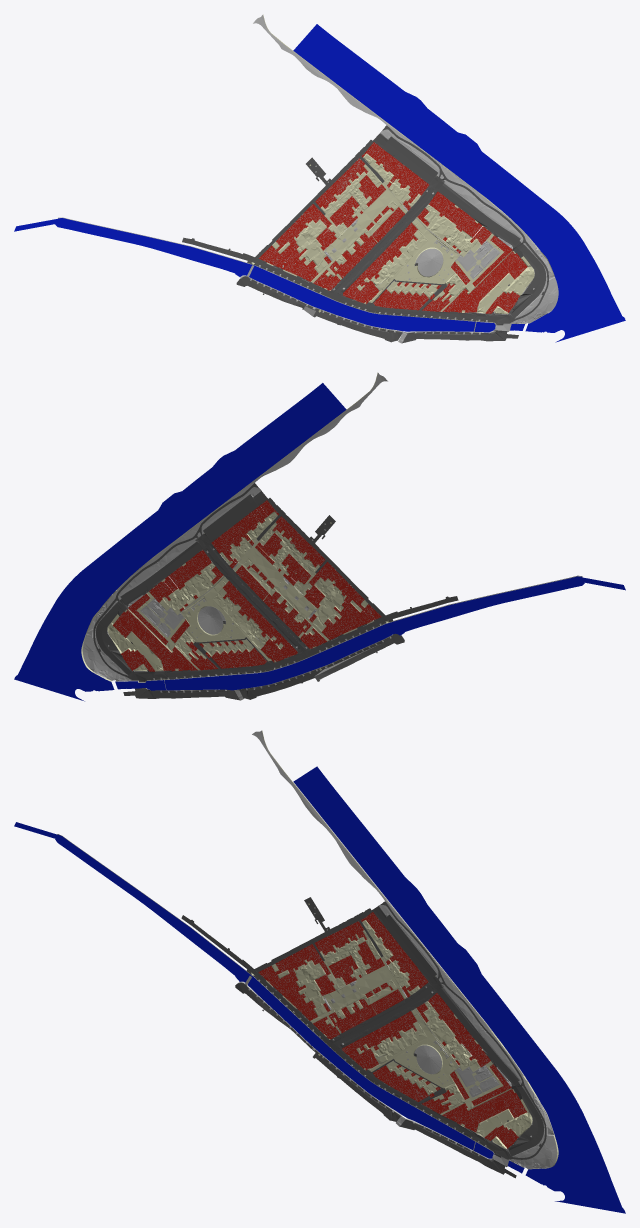
3 renders of one model, top to bottom at view 1: azimuth 30°, elevation 25°; view 2: azimuth 150°, elevation 25°; view 3: azimuth 330°, elevation 25°, orthographic.
Visible parts, largest first — view 1: b69a8d7bc-2d38-11e6-9a38-393caa90be70, bedab6302-00c8-11e6-b420-2bdcc4ab5d7f, b1105d28c-00ba-11e6-b420-2bdcc4ab5d7f, b2c160b4d-2d29-11e6-9a38-393caa90be70, b492abedc-00b4-11e6-b420-2bdcc4ab5d7f, b221e7287-00b5-11e6-b420-2bdcc4ab5d7f, b983a1b0d-00c9-11e6-b420-2bdcc4ab5d7f, b4138231e-00b4-11e6-b420-2bdcc4ab5d7f, b2223065e-00b5-11e6-b420-2bdcc4ab5d7f, b4931c302-00b4-11e6-b420-2bdcc4ab5d7f, b22250278-00b5-11e6-b420-2bdcc4ab5d7f, b984231ca-00c9-11e6-b420-2bdcc4ab5d7f (+13 smaller); view 2: b69a8d7bc-2d38-11e6-9a38-393caa90be70, bedab6302-00c8-11e6-b420-2bdcc4ab5d7f, b1105d28c-00ba-11e6-b420-2bdcc4ab5d7f, b2c160b4d-2d29-11e6-9a38-393caa90be70, b492abedc-00b4-11e6-b420-2bdcc4ab5d7f, b221e7287-00b5-11e6-b420-2bdcc4ab5d7f, b983a1b0d-00c9-11e6-b420-2bdcc4ab5d7f, b4138231e-00b4-11e6-b420-2bdcc4ab5d7f, b2223065e-00b5-11e6-b420-2bdcc4ab5d7f, b4931c302-00b4-11e6-b420-2bdcc4ab5d7f, b22250278-00b5-11e6-b420-2bdcc4ab5d7f, b984231ca-00c9-11e6-b420-2bdcc4ab5d7f (+14 smaller); view 3: b69a8d7bc-2d38-11e6-9a38-393caa90be70, bedab6302-00c8-11e6-b420-2bdcc4ab5d7f, b2c160b4d-2d29-11e6-9a38-393caa90be70, b1105d28c-00ba-11e6-b420-2bdcc4ab5d7f, b492abedc-00b4-11e6-b420-2bdcc4ab5d7f, b221e7287-00b5-11e6-b420-2bdcc4ab5d7f, b983a1b0d-00c9-11e6-b420-2bdcc4ab5d7f, b4138231e-00b4-11e6-b420-2bdcc4ab5d7f, b2223065e-00b5-11e6-b420-2bdcc4ab5d7f, b4931c302-00b4-11e6-b420-2bdcc4ab5d7f, b22250278-00b5-11e6-b420-2bdcc4ab5d7f, b984231ca-00c9-11e6-b420-2bdcc4ab5d7f (+3 smaller).
Part boxes in pixels (left/top/right/bottom): b69a8d7bc-2d38-11e6-9a38-393caa90be70: left=293, top=24, right=625, bottom=342; bedab6302-00c8-11e6-b420-2bdcc4ab5d7f: left=14, top=218, right=475, bottom=331; b1105d28c-00ba-11e6-b420-2bdcc4ab5d7f: left=442, top=250, right=527, bottom=312; b2c160b4d-2d29-11e6-9a38-393caa90be70: left=253, top=15, right=534, bottom=248; b492abedc-00b4-11e6-b420-2bdcc4ab5d7f: left=368, top=222, right=458, bottom=302; b221e7287-00b5-11e6-b420-2bdcc4ab5d7f: left=416, top=204, right=481, bottom=257; b983a1b0d-00c9-11e6-b420-2bdcc4ab5d7f: left=255, top=140, right=384, bottom=258; b4138231e-00b4-11e6-b420-2bdcc4ab5d7f: left=311, top=182, right=407, bottom=282; b2223065e-00b5-11e6-b420-2bdcc4ab5d7f: left=294, top=219, right=328, bottom=273; b4931c302-00b4-11e6-b420-2bdcc4ab5d7f: left=364, top=230, right=428, bottom=290; b22250278-00b5-11e6-b420-2bdcc4ab5d7f: left=320, top=170, right=384, bottom=217; b984231ca-00c9-11e6-b420-2bdcc4ab5d7f: left=182, top=237, right=335, bottom=298; b69a8d7bc-2d38-11e6-9a38-393caa90be70: left=14, top=383, right=346, bottom=701; bedab6302-00c8-11e6-b420-2bdcc4ab5d7f: left=164, top=576, right=625, bottom=690; b1105d28c-00ba-11e6-b420-2bdcc4ab5d7f: left=113, top=609, right=197, bottom=671; b2c160b4d-2d29-11e6-9a38-393caa90be70: left=106, top=373, right=387, bottom=606; b492abedc-00b4-11e6-b420-2bdcc4ab5d7f: left=182, top=580, right=271, bottom=661; b221e7287-00b5-11e6-b420-2bdcc4ab5d7f: left=159, top=563, right=223, bottom=614; b983a1b0d-00c9-11e6-b420-2bdcc4ab5d7f: left=256, top=498, right=385, bottom=616; b4138231e-00b4-11e6-b420-2bdcc4ab5d7f: left=233, top=540, right=329, bottom=641; b2223065e-00b5-11e6-b420-2bdcc4ab5d7f: left=312, top=577, right=346, bottom=631; b4931c302-00b4-11e6-b420-2bdcc4ab5d7f: left=212, top=588, right=276, bottom=648; b22250278-00b5-11e6-b420-2bdcc4ab5d7f: left=255, top=528, right=319, bottom=575; b984231ca-00c9-11e6-b420-2bdcc4ab5d7f: left=304, top=596, right=458, bottom=657; b69a8d7bc-2d38-11e6-9a38-393caa90be70: left=293, top=766, right=625, bottom=1213; bedab6302-00c8-11e6-b420-2bdcc4ab5d7f: left=14, top=822, right=474, bottom=1149; b2c160b4d-2d29-11e6-9a38-393caa90be70: left=252, top=730, right=533, bottom=1096; b1105d28c-00ba-11e6-b420-2bdcc4ab5d7f: left=442, top=1089, right=526, bottom=1132; b492abedc-00b4-11e6-b420-2bdcc4ab5d7f: left=368, top=1014, right=457, bottom=1088; b221e7287-00b5-11e6-b420-2bdcc4ab5d7f: left=415, top=1001, right=480, bottom=1072; b983a1b0d-00c9-11e6-b420-2bdcc4ab5d7f: left=254, top=897, right=383, bottom=972; b4138231e-00b4-11e6-b420-2bdcc4ab5d7f: left=310, top=957, right=406, bottom=1023; b2223065e-00b5-11e6-b420-2bdcc4ab5d7f: left=293, top=959, right=327, bottom=1016; b4931c302-00b4-11e6-b420-2bdcc4ab5d7f: left=363, top=1021, right=427, bottom=1063; b22250278-00b5-11e6-b420-2bdcc4ab5d7f: left=320, top=934, right=383, bottom=979; b984231ca-00c9-11e6-b420-2bdcc4ab5d7f: left=181, top=915, right=335, bottom=1048.
Size of the model in its own units: 524 by 328 by 16.91.
